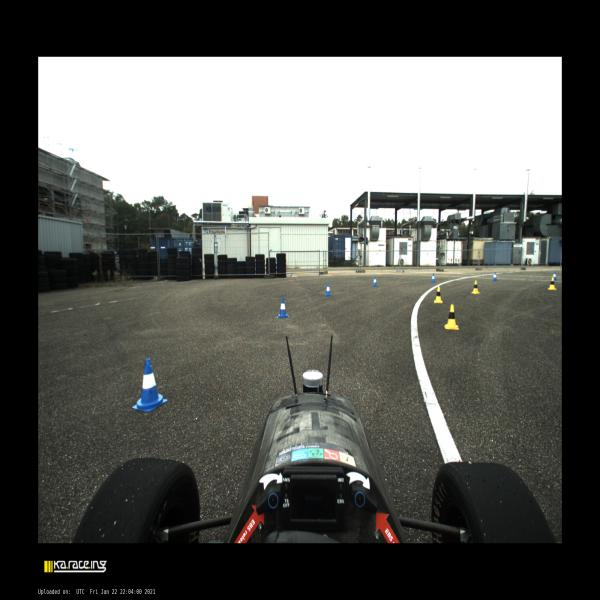blue_cone: (132, 358, 168, 412), (277, 297, 289, 318), (325, 283, 331, 296), (372, 276, 378, 286), (492, 272, 497, 281), (431, 273, 435, 283), (553, 271, 557, 280)
yellow_cone: (444, 304, 459, 330), (434, 287, 443, 303), (471, 280, 480, 294), (548, 278, 556, 290)
